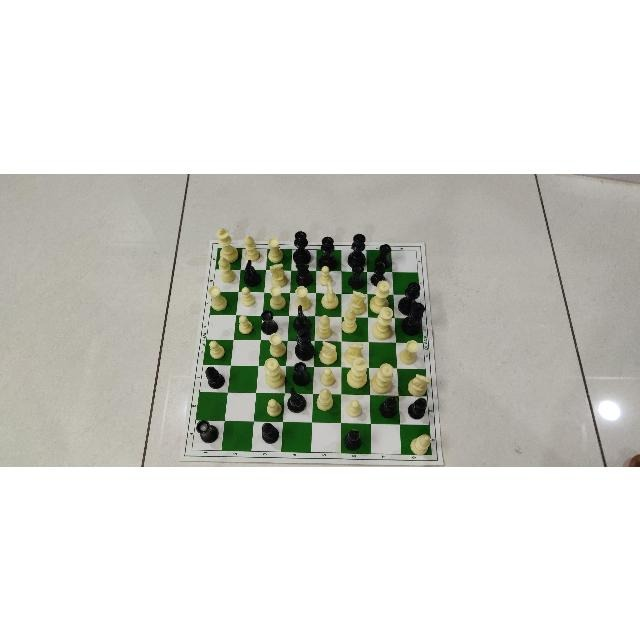black-bishop: (258, 421, 282, 446), (341, 426, 365, 451), (204, 363, 226, 389), (378, 394, 399, 419), (406, 397, 428, 419)
black-king: (400, 302, 428, 337), (294, 329, 316, 361)
black-knight: (242, 258, 264, 288), (292, 260, 315, 287), (285, 385, 307, 413), (293, 306, 311, 334)
black-queen: (399, 280, 423, 314), (291, 228, 313, 265), (317, 235, 340, 270), (347, 232, 367, 270)
black-rook: (196, 418, 220, 442), (369, 258, 387, 286), (258, 309, 278, 334), (346, 265, 366, 289), (373, 243, 393, 267)
white-bishop: (214, 254, 239, 285), (408, 432, 433, 456), (243, 233, 261, 265), (315, 386, 335, 414), (341, 306, 359, 335), (316, 312, 333, 340)
white-king: (216, 226, 242, 265), (344, 357, 369, 390)
white-knight: (266, 260, 291, 287), (317, 340, 341, 366), (342, 342, 367, 366), (405, 373, 430, 397), (320, 283, 342, 310), (348, 289, 368, 317)
white-pawn: (204, 339, 227, 360), (238, 285, 258, 307), (316, 263, 334, 287), (264, 398, 284, 418), (345, 398, 365, 418), (321, 367, 337, 389), (237, 314, 253, 334)
white-queen: (367, 278, 392, 314), (370, 361, 396, 393), (373, 305, 395, 339), (264, 356, 284, 389)
white-rook: (398, 338, 422, 364), (208, 283, 228, 313), (292, 285, 314, 311), (266, 285, 287, 311), (268, 334, 286, 360), (266, 236, 282, 264)
